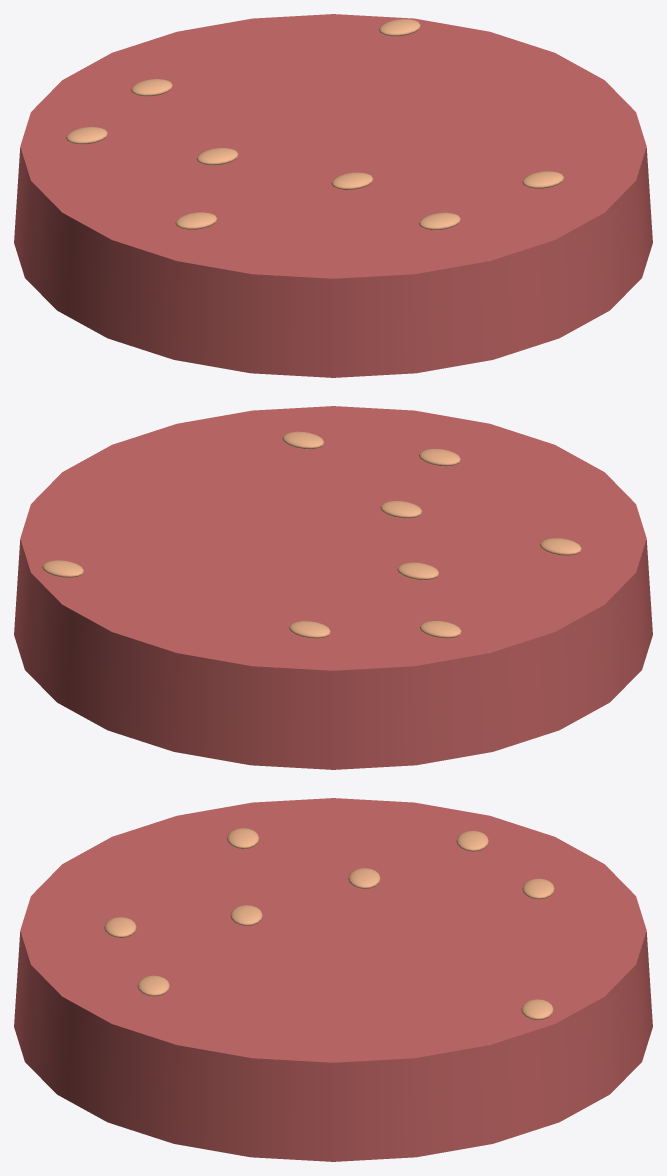
The model's file is patty-raw.glb.
The picture shows the model from 3 angles, top to bottom: view 1: azimuth 30°, elevation 25°; view 2: azimuth 150°, elevation 25°; view 3: azimuth 270°, elevation 25°; orthographic projection.
Visible parts, largest first — view 1: patty-raw; view 2: patty-raw; view 3: patty-raw.
Boxes of the visible parts, x1,y1,x2,y2 form: patty-raw: [14, 14, 652, 377]; patty-raw: [14, 406, 652, 769]; patty-raw: [14, 798, 652, 1161].
Size of the model in its own units: 0.51 by 0.0915 by 0.51.
